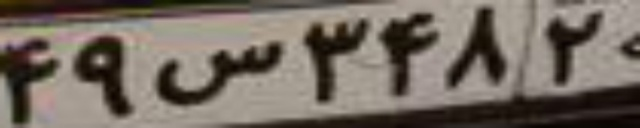0: (613, 30, 639, 61)
2: (544, 10, 602, 86)
3: (305, 15, 369, 104)
4: (375, 11, 440, 96), (0, 37, 59, 123)
8: (448, 8, 510, 89)
9: (74, 37, 134, 118)
sin: (149, 39, 282, 104)
